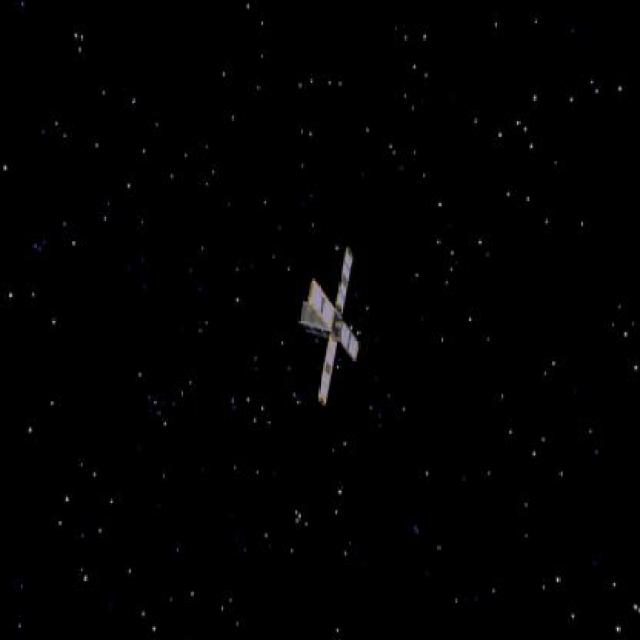medium_debris: (281, 246, 379, 408)
